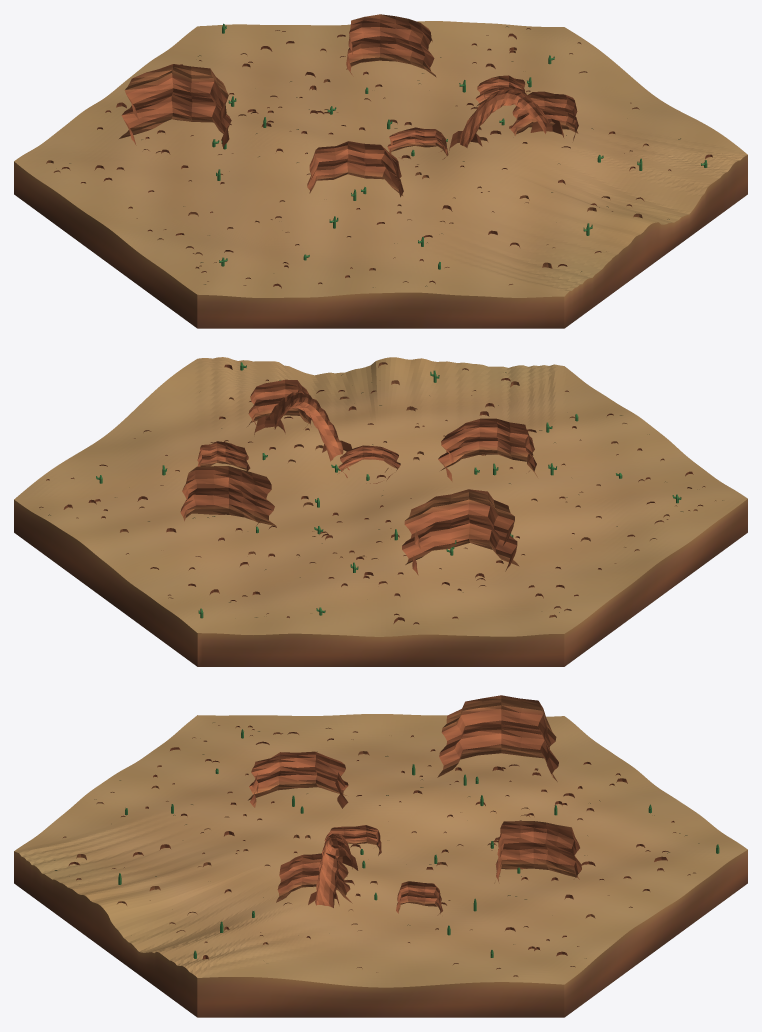
The picture shows the model from 3 angles, top to bottom: view 1: azimuth 30°, elevation 25°; view 2: azimuth 150°, elevation 25°; view 3: azimuth 270°, elevation 25°; orthographic projection.
Visible parts, largest first — view 1: terrain, hex_side_cut, sandstone_cliffs, loose_rocks, rock_arches, cacti; view 2: terrain, hex_side_cut, sandstone_cliffs, loose_rocks, rock_arches, cacti; view 3: terrain, hex_side_cut, sandstone_cliffs, loose_rocks, rock_arches, cacti.
Boxes of the visible parts, left/top/right/bottom form: terrain: left=14, top=21, right=747, bottom=297; hex_side_cut: left=14, top=155, right=747, bottom=328; sandstone_cliffs: left=119, top=14, right=578, bottom=197; loose_rocks: left=46, top=28, right=712, bottom=288; rock_arches: left=449, top=88, right=563, bottom=150; cacti: left=212, top=23, right=707, bottom=269; terrain: left=14, top=357, right=747, bottom=636; hex_side_cut: left=14, top=499, right=747, bottom=666; sandstone_cliffs: left=180, top=379, right=537, bottom=575; loose_rocks: left=39, top=362, right=715, bottom=624; rock_arches: left=254, top=391, right=352, bottom=461; cacti: left=96, top=362, right=681, bottom=618; terrain: left=14, top=714, right=747, bottom=987; hex_side_cut: left=14, top=850, right=747, bottom=1017; sandstone_cliffs: left=248, top=695, right=581, bottom=915; loose_rocks: left=63, top=725, right=695, bottom=976; rock_arches: left=308, top=833, right=358, bottom=907; cacti: left=118, top=729, right=719, bottom=958.
Bounding box in the file's own units: 4330 × 752 × 5000.
